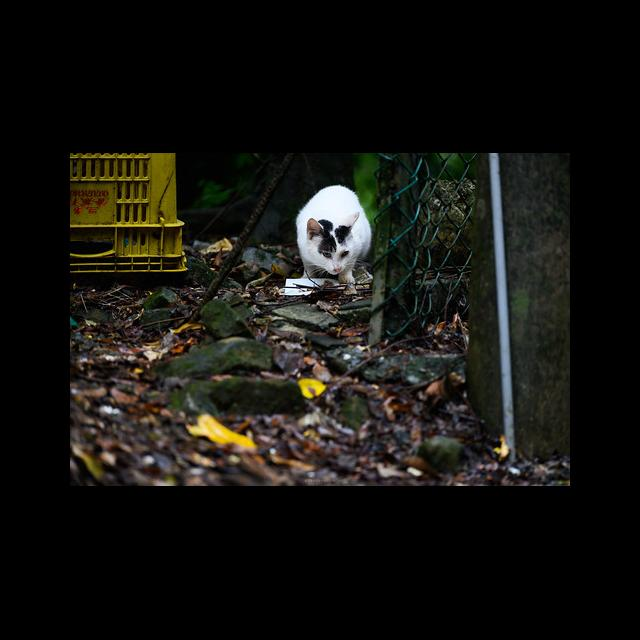animals: (296, 185, 371, 285)
